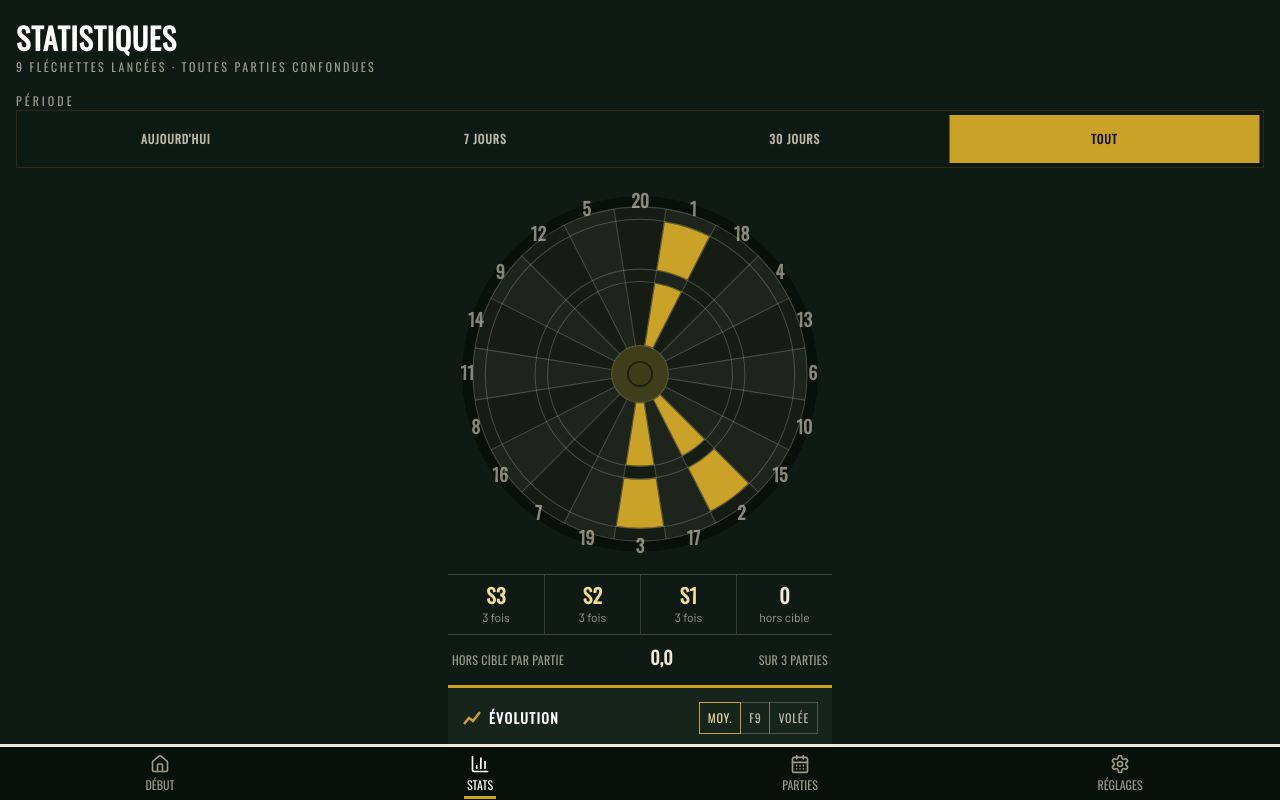
Test case: Évolution — la carte et ses états › aucune partie sur la période : pas de carte, l’écran garde « Rien sur cette période »
Click the button "Aujourd'hui" at {"x": 176, "y": 139}, box [21, 115, 330, 163]
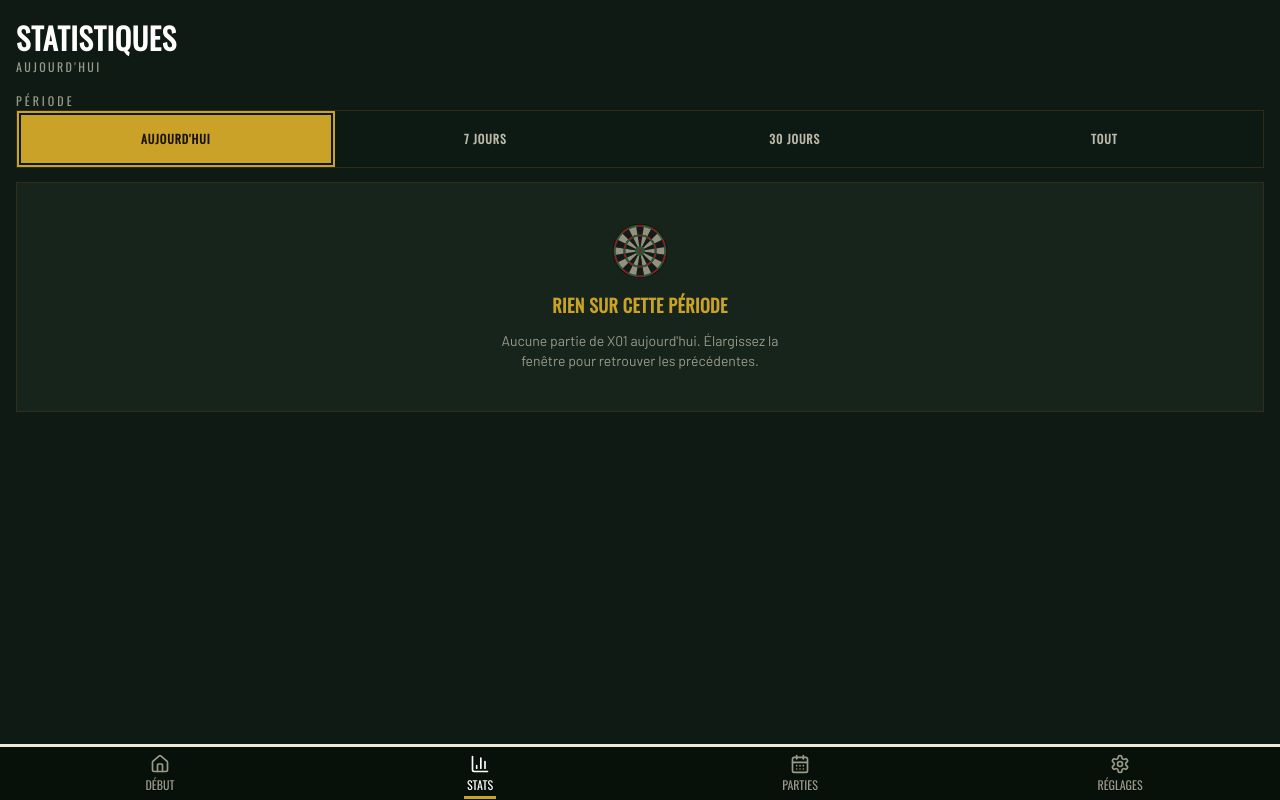
Expected: the text "Rien sur cette période" is shown, [552, 291, 728, 319]
Expected: the heading "Évolution" is gone
